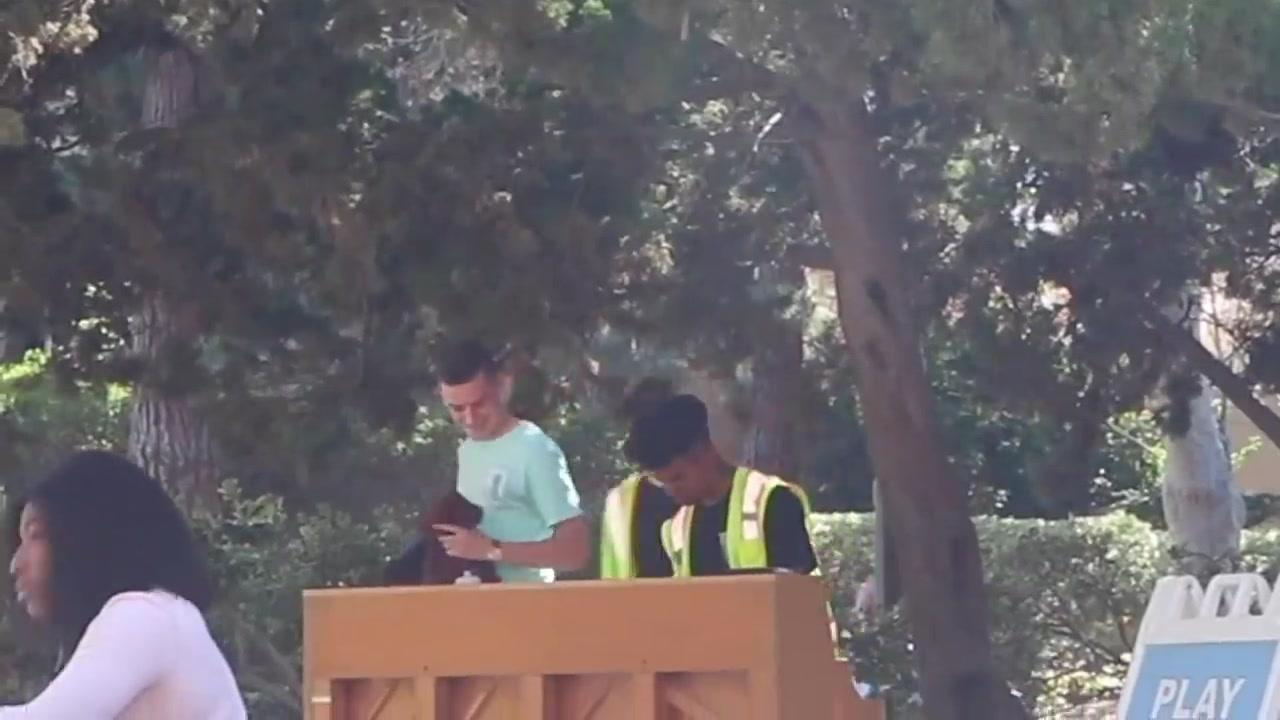vest: (658, 466, 811, 576), (594, 473, 643, 577)
